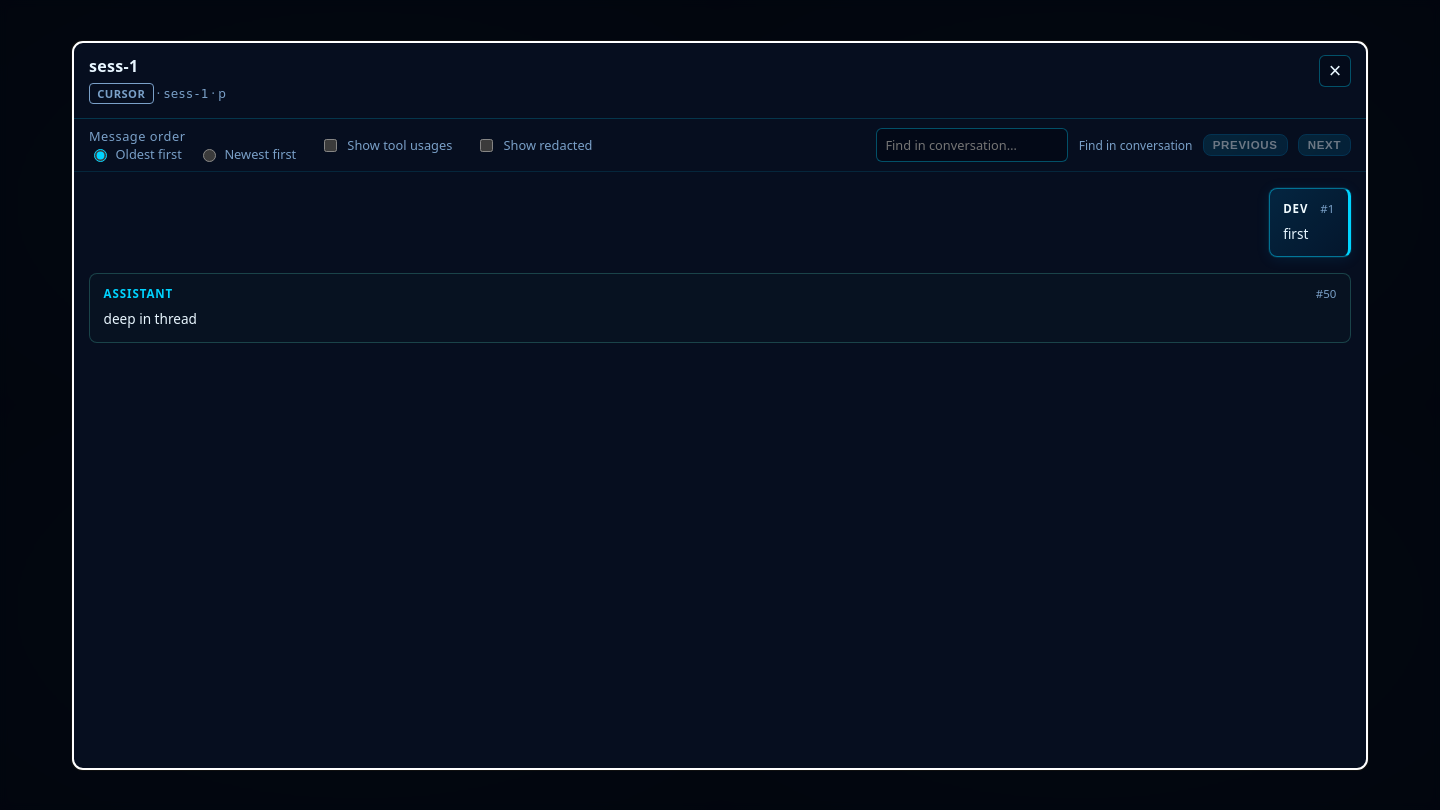
Test: ConversationModal in-modal find › highlights matches and shows match counter
Expected: the text "first" is shown, [1283,224,1308,243]
Type "deep" into the search field labelled "Find in conversation". click: (972, 145)
box: [876,128,1068,162]
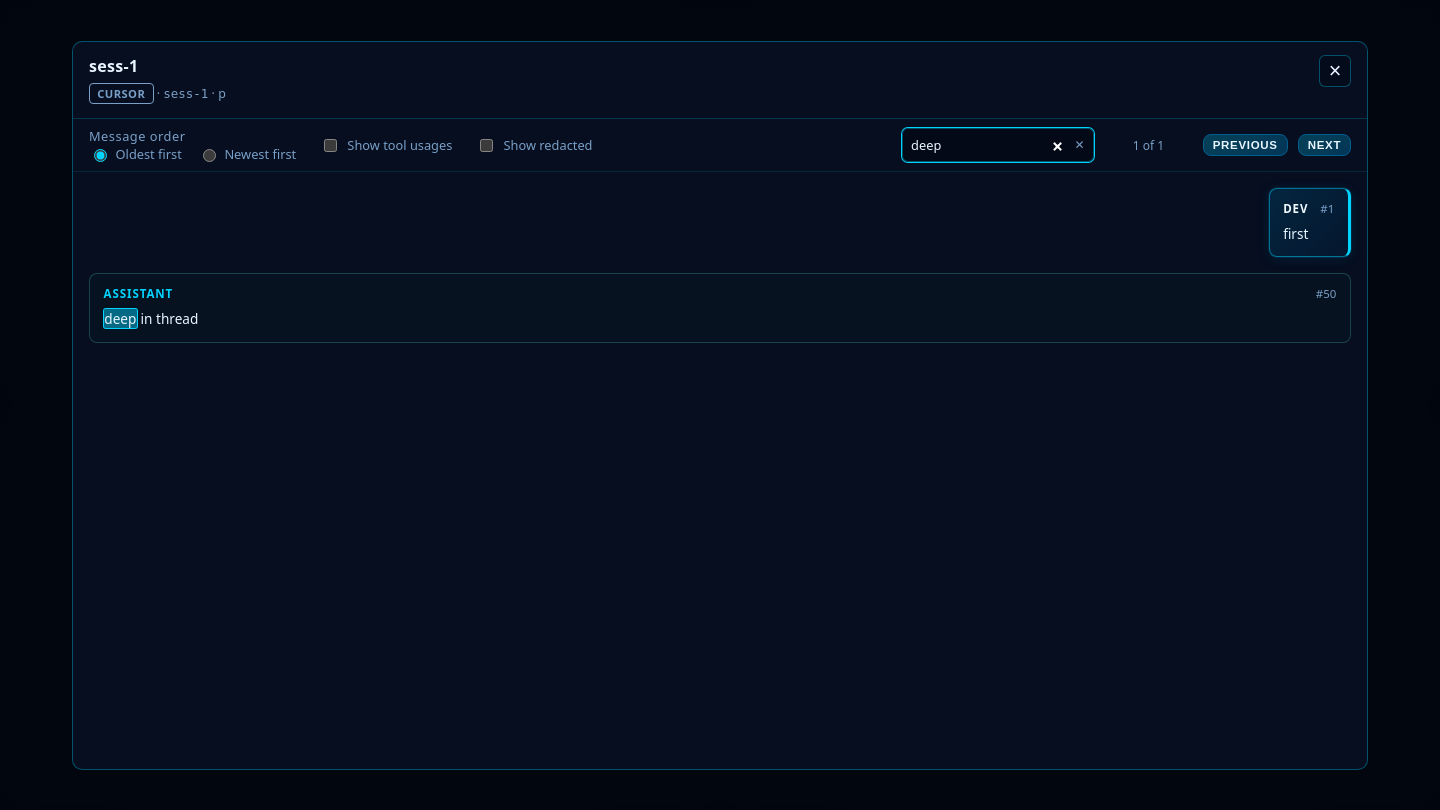
Expected: the text "deep" is shown, [104,310,137,328]
Expected: the text "1 of 1" is shown, [1133,137,1164,154]
